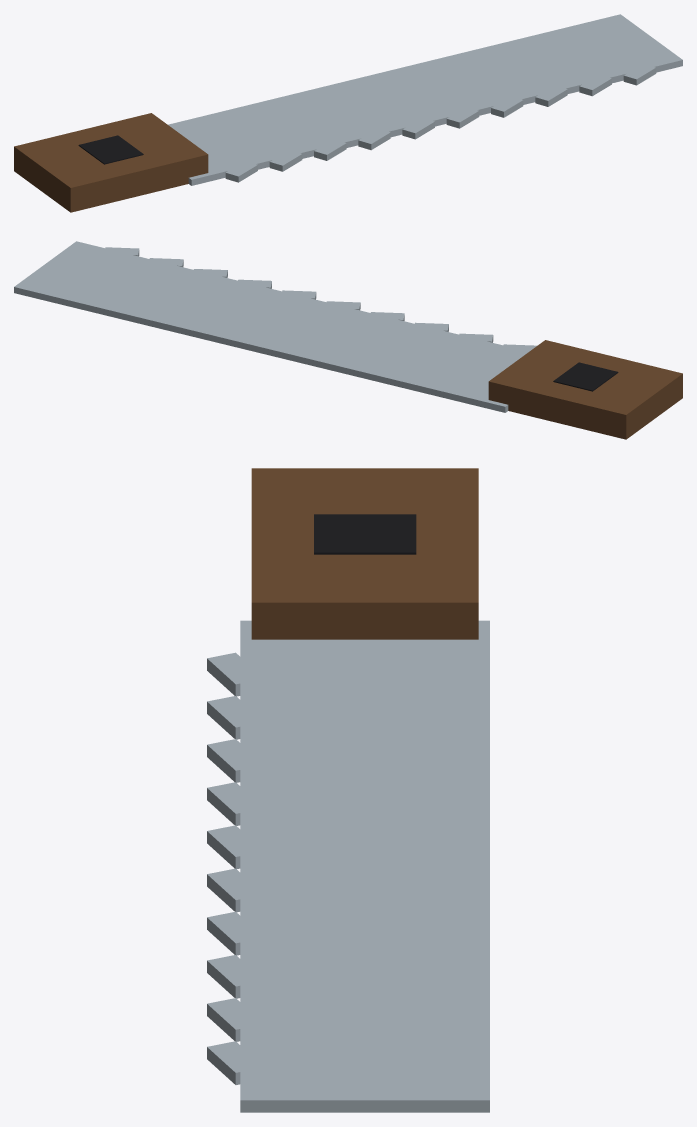
The model's file is GT_HandSaw_01.glb.
The picture shows the model from 3 angles, top to bottom: view 1: azimuth 30°, elevation 25°; view 2: azimuth 150°, elevation 25°; view 3: azimuth 270°, elevation 25°; orthographic projection. The views are drawn at different scales.
Parts seen in each view (by area): view 1: GT_HandSaw_01; view 2: GT_HandSaw_01; view 3: GT_HandSaw_01.
Boxes of the visible parts, left/top/right/bottom form: GT_HandSaw_01: left=14, top=14, right=682, bottom=212; GT_HandSaw_01: left=14, top=241, right=682, bottom=439; GT_HandSaw_01: left=207, top=468, right=489, bottom=1112.
Bounding box in the file's own units: 0.62 × 0.026 × 0.1247.
Materials: 1 (1 with a texture image).
